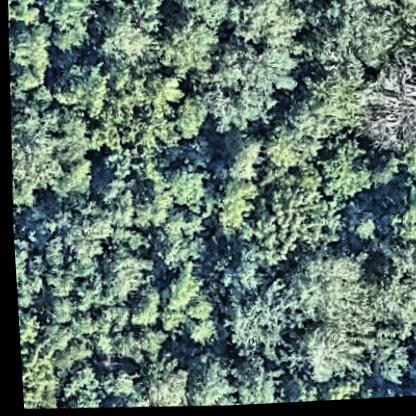tree-top: (4, 93, 94, 219), (10, 212, 108, 325), (85, 65, 189, 170), (147, 263, 241, 353), (187, 39, 276, 133), (351, 226, 416, 344), (305, 0, 398, 73), (254, 183, 339, 262), (349, 58, 416, 157), (285, 67, 372, 142), (225, 273, 296, 359), (283, 249, 356, 324), (149, 7, 220, 78), (284, 315, 352, 387), (194, 178, 263, 248), (53, 357, 136, 411), (308, 131, 370, 203), (92, 176, 164, 237), (225, 0, 309, 49), (15, 323, 61, 410), (88, 3, 151, 65), (142, 212, 207, 271), (5, 14, 52, 91), (176, 349, 236, 409), (35, 0, 94, 57), (53, 62, 110, 121), (100, 245, 152, 305), (358, 329, 407, 391), (209, 128, 263, 184), (225, 356, 282, 408), (157, 164, 204, 219)
